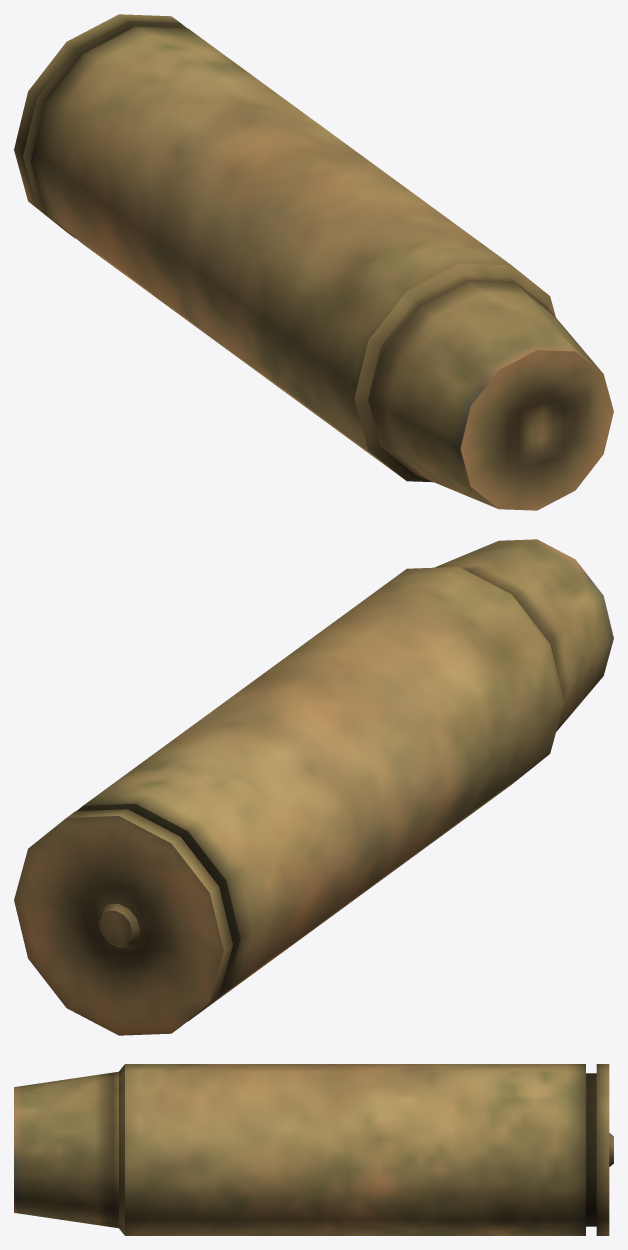
File: augShell.fbx
3 renders of one model, top to bottom at view 1: azimuth 30°, elevation 25°; view 2: azimuth 150°, elevation 25°; view 3: azimuth 270°, elevation 25°, orthographic. The views are drawn at different scales.
Visible parts, largest first — view 1: bullet; view 2: bullet; view 3: bullet.
Boxes of the visible parts, box(x1,y1,x2,y2) form: bullet: box(14, 14, 613, 510); bullet: box(14, 539, 613, 1035); bullet: box(14, 1064, 613, 1235).
Bounding box in the file's own units: 1.48 × 1.48 × 5.13.
